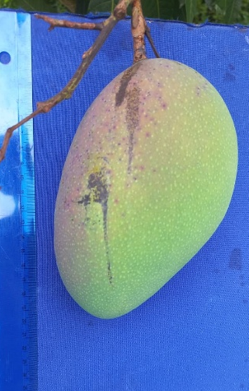Mango-Antracnosis: (54, 59, 237, 318)
Mango-area-afectada: (80, 169, 111, 282)
Mango-sano: (54, 59, 237, 318)
